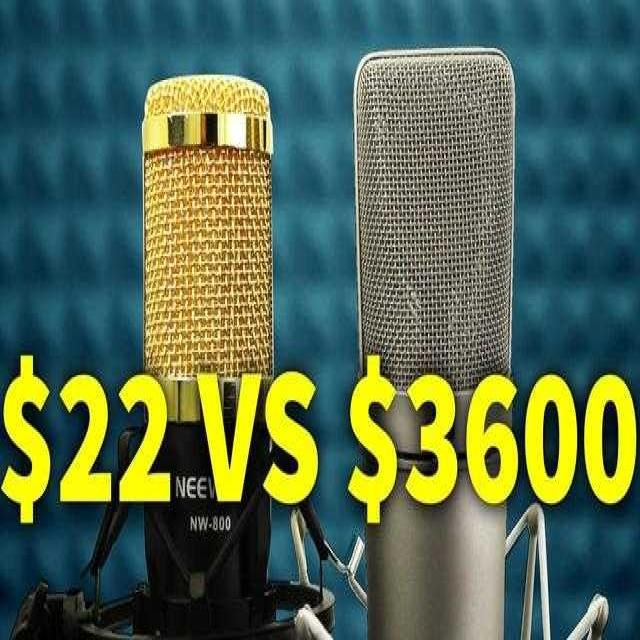microphone: (355, 48, 515, 635), (142, 78, 278, 628)
